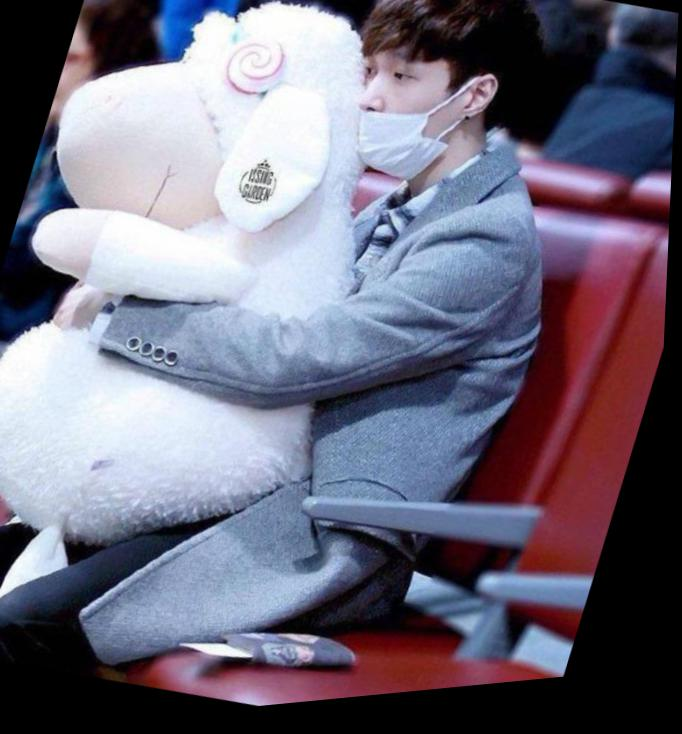WRONG: (334, 37, 469, 203)
